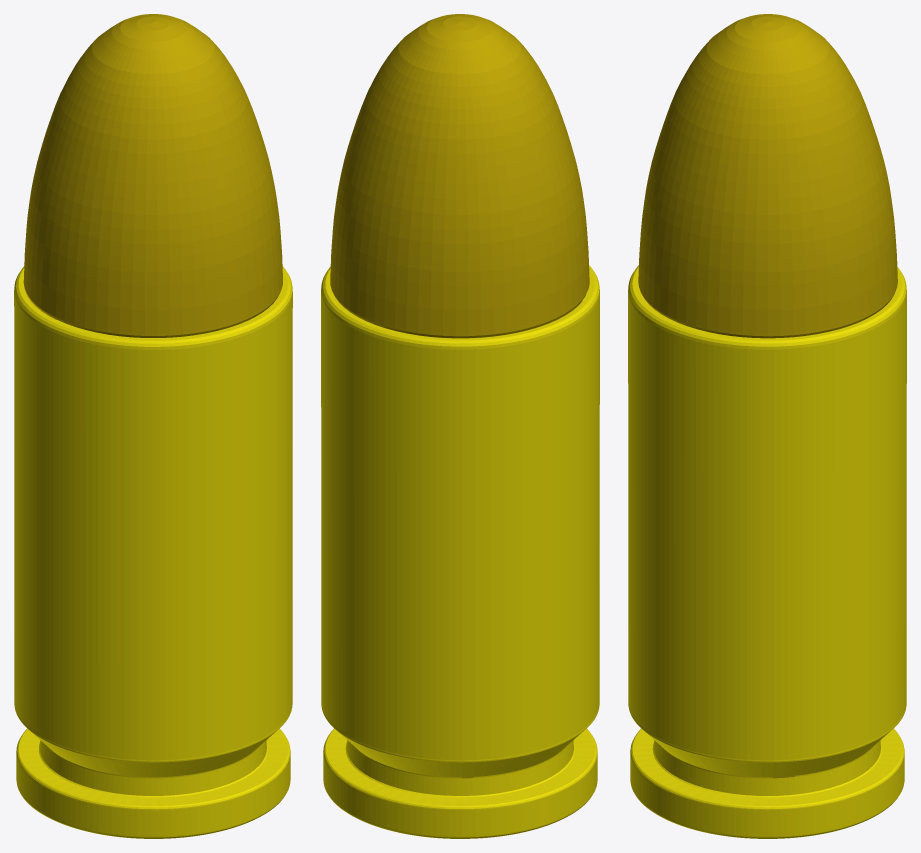
File: Bullet2.fbx
3 renders of one model, left to right at view 1: azimuth 30°, elevation 25°; view 2: azimuth 150°, elevation 25°; view 3: azimuth 270°, elevation 25°, orthographic.
Parts seen in each view (by area): view 1: Bullet; view 2: Bullet; view 3: Bullet.
Boxes of the visible parts, x1,y1,x2,y2 form: Bullet: (14, 14, 292, 838); Bullet: (321, 14, 599, 838); Bullet: (628, 14, 906, 838).
Bounding box in the file's own units: 5485 × 16504 × 5485.
